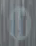Two way: (3, 3, 35, 44)
